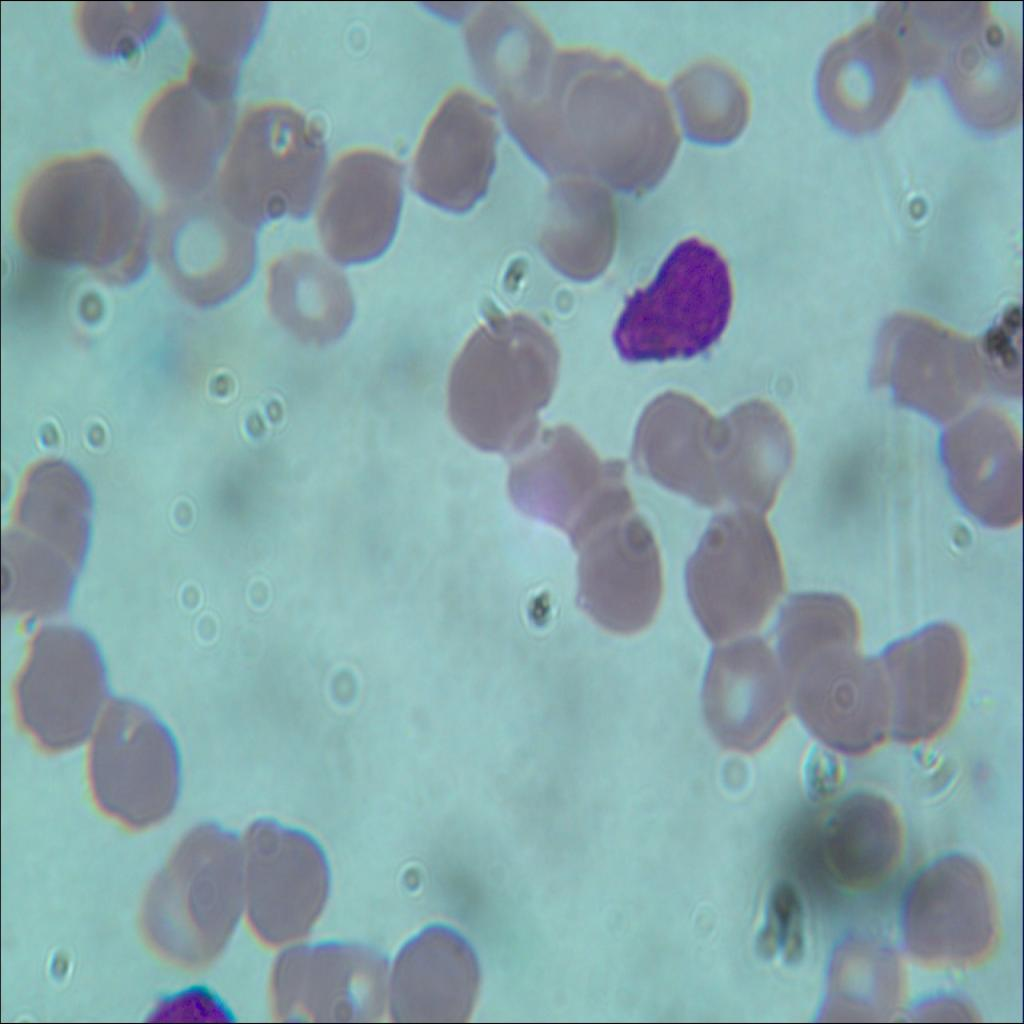Eritrosit: (449, 302, 556, 455), (560, 477, 666, 631), (214, 94, 328, 231), (146, 815, 250, 959), (684, 500, 786, 641), (870, 312, 980, 424), (88, 698, 183, 824), (693, 632, 791, 754), (11, 622, 108, 744), (238, 817, 331, 944), (310, 141, 406, 264), (566, 74, 662, 197), (410, 88, 498, 222), (878, 608, 964, 745), (150, 195, 254, 305), (814, 21, 908, 139), (630, 381, 721, 498), (941, 399, 1023, 528), (706, 401, 798, 515), (76, 148, 151, 287), (906, 848, 995, 964), (13, 147, 104, 258), (504, 408, 595, 518), (939, 17, 1023, 136), (798, 651, 892, 757), (263, 244, 356, 349), (766, 585, 856, 691), (462, 0, 550, 106), (389, 922, 481, 1023), (141, 74, 221, 188), (529, 181, 613, 288), (824, 782, 906, 891), (824, 930, 906, 1023), (309, 935, 390, 1023), (670, 58, 749, 145)
Limfoblast: (606, 230, 736, 360)
